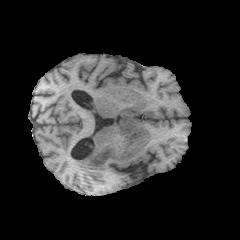glioma: (71, 106, 147, 173)
